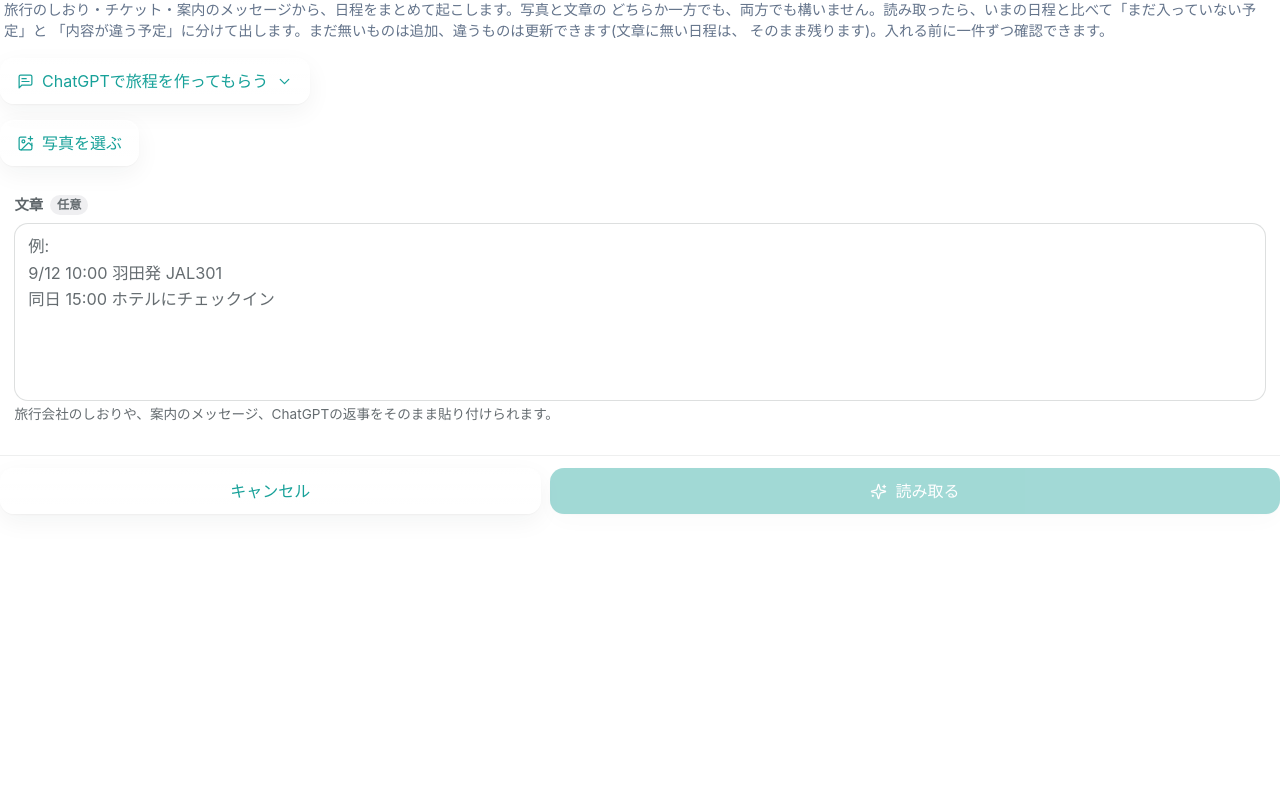
Scenario: 写真・文章から日程を読み取る画面 › すでに入っている日程の更新 › 同じ予定で時刻が変わっていれば、更新として前後を並べる
Step 1. Type "9/12 10:00 羽田発" into the text box with placeholder "例: 9/12 10:00 羽田発 JAL301 同日 15:00 ホテルにチェックイン" → (640, 312), box x1=14 y1=222 x2=1266 y2=401
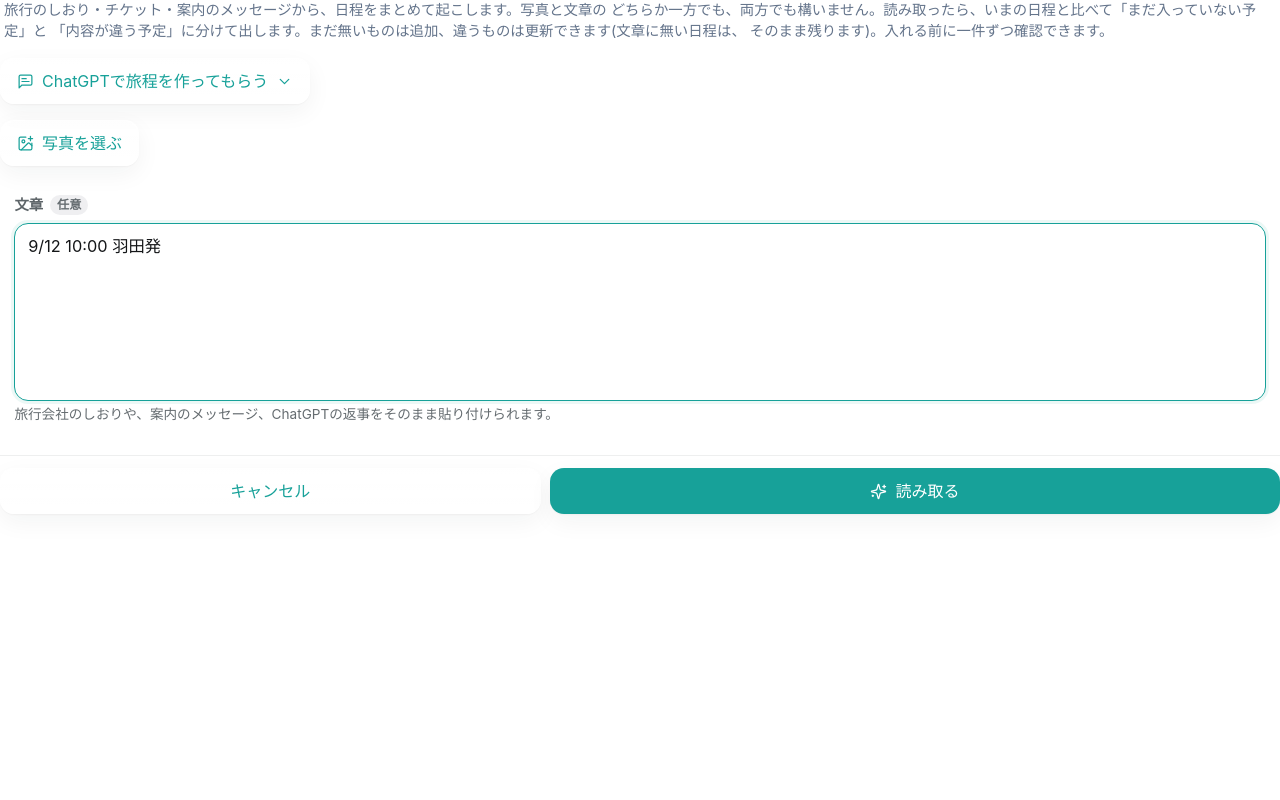
Step 2. Click the button "読み取る" → (915, 490), box x1=550 y1=468 x2=1279 y2=514
(page scrolled)
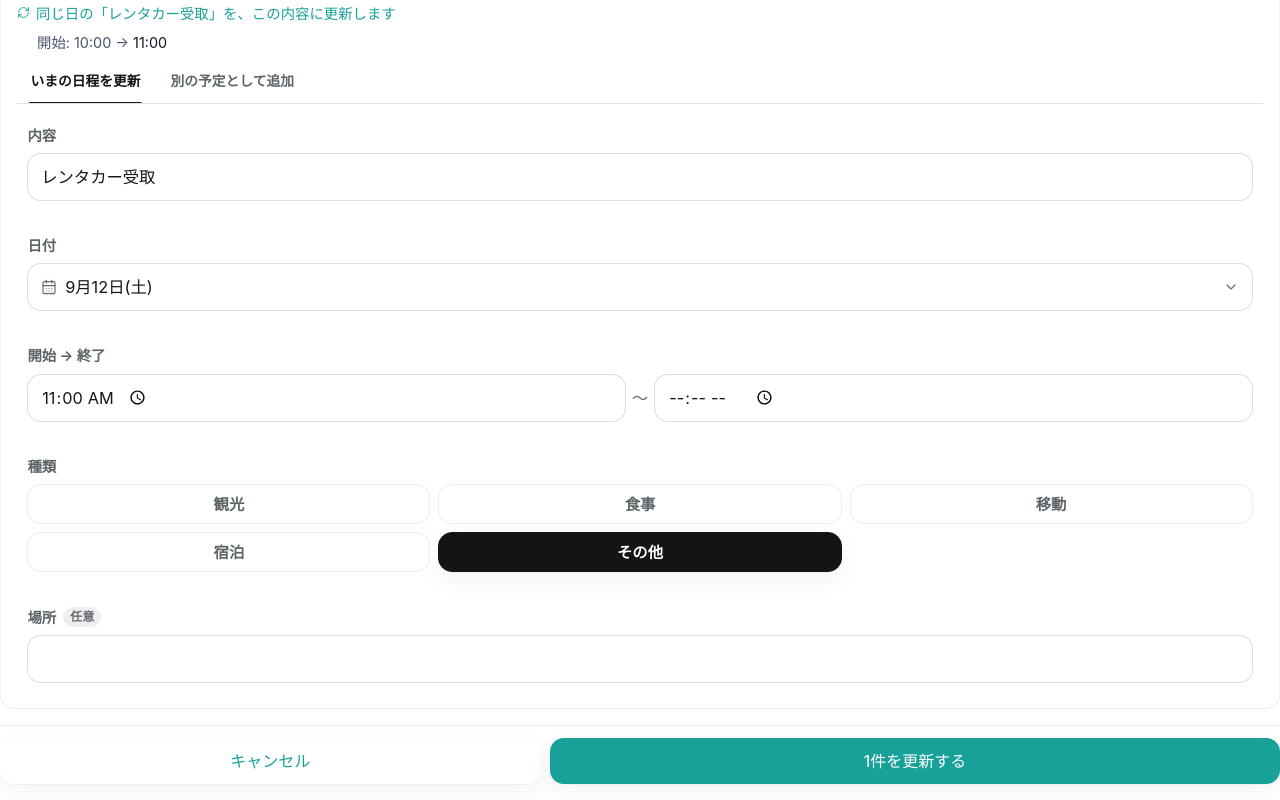
Now the text "同じ日の「レンタカー受取」を、この内容に更新します" is shown, box x1=17 y1=5 x2=396 y2=22
Now the list item "開始: 10:00 → 11:00" is shown, box x1=37 y1=34 x2=167 y2=51
Now the button "1件を更新する" is shown, box x1=550 y1=738 x2=1279 y2=784
